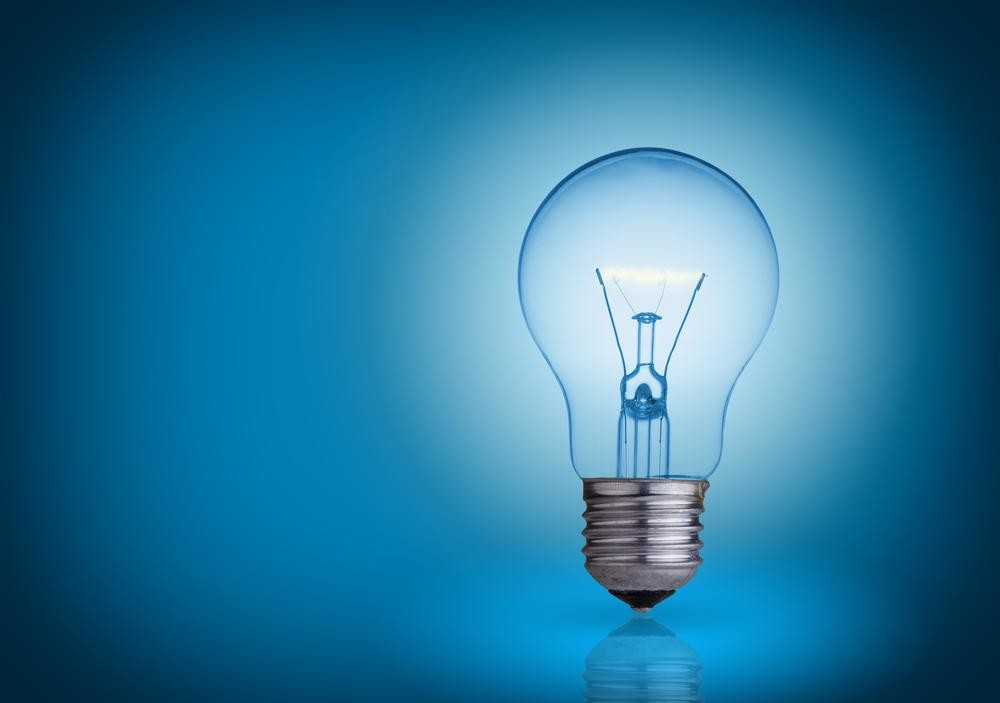Nonrec_Glass: (503, 135, 780, 614)
